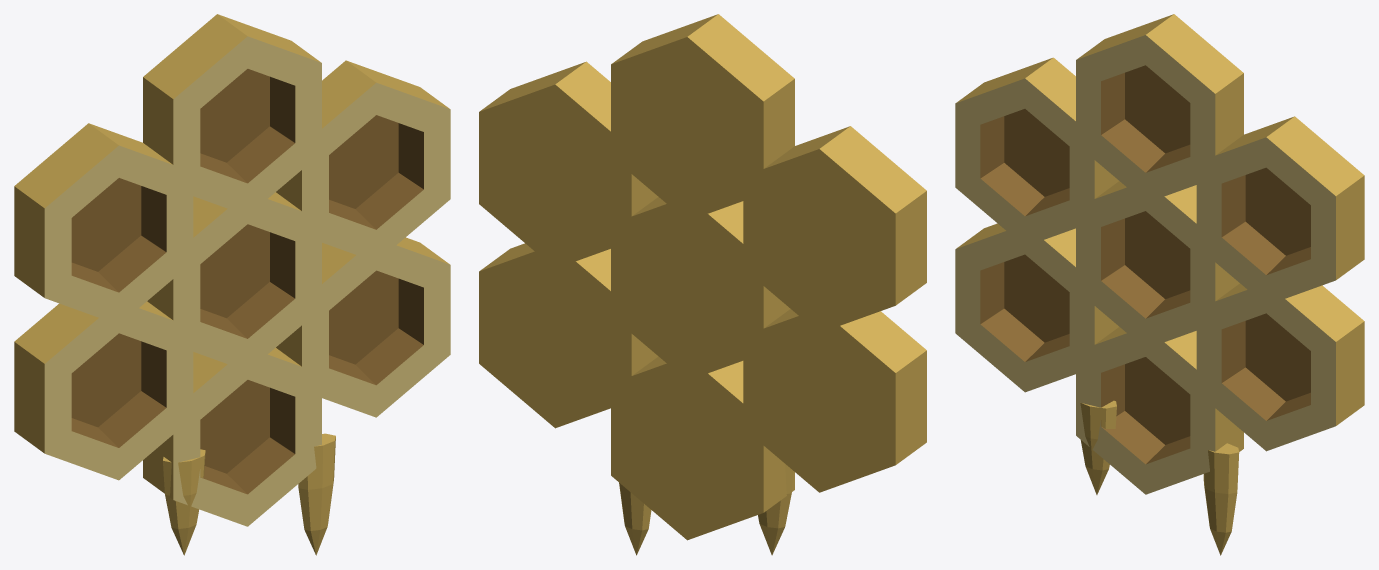
File: Honeycomb.glb
3 renders of one model, left to right at view 1: azimuth 30°, elevation 25°; view 2: azimuth 150°, elevation 25°; view 3: azimuth 330°, elevation 25°, orthographic. The views are drawn at different scales.
Parts seen in each view (by area): view 1: Honeycomb; view 2: Honeycomb; view 3: Honeycomb.
Part boxes in pixels (x1,y1,x2,y2): Honeycomb: [14, 14, 450, 555]; Honeycomb: [479, 14, 926, 555]; Honeycomb: [955, 14, 1364, 555].
Size of the model in its own units: 2.46 by 3.14 by 0.338.
